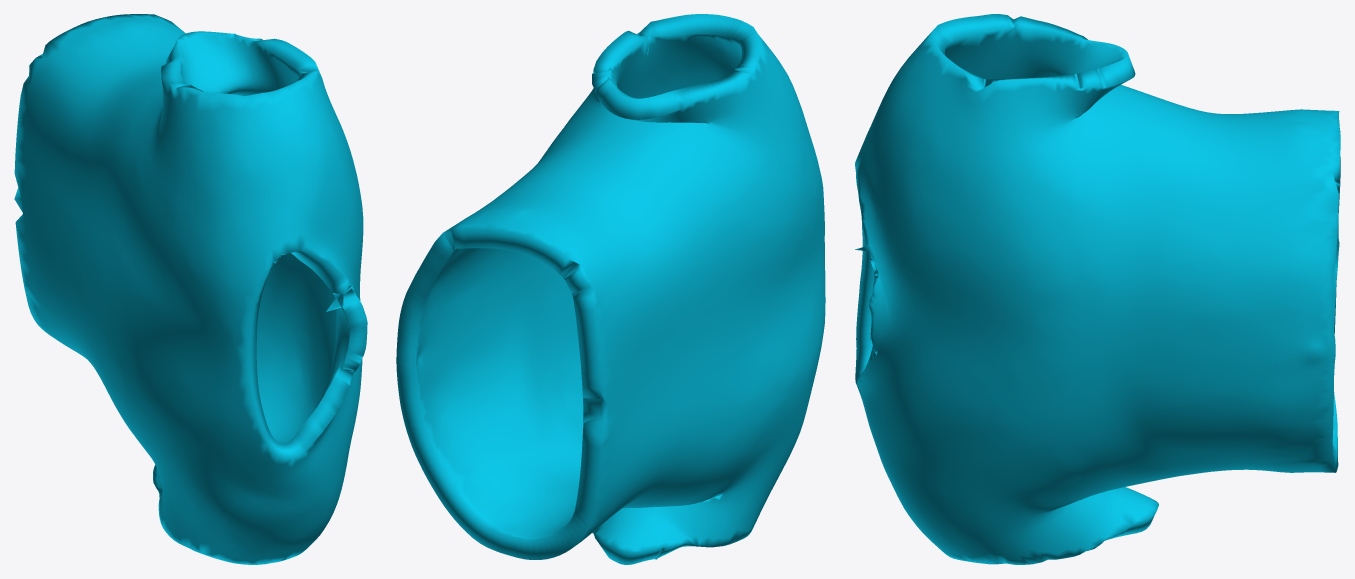
The model's file is Test_T-Shirt_FovaneEdit.glb.
3 renders of one model, left to right at view 1: azimuth 30°, elevation 25°; view 2: azimuth 150°, elevation 25°; view 3: azimuth 270°, elevation 25°, orthographic. The views are drawn at different scales.
Visible parts, largest first — view 1: Upper.001; view 2: Upper.001; view 3: Upper.001.
Boxes of the visible parts, x1,y1,x2,y2 form: Upper.001: (14,14,367,564); Upper.001: (396,14,825,564); Upper.001: (855,14,1340,564).
Bounding box in the file's own units: 0.287 × 0.55 × 0.485.
